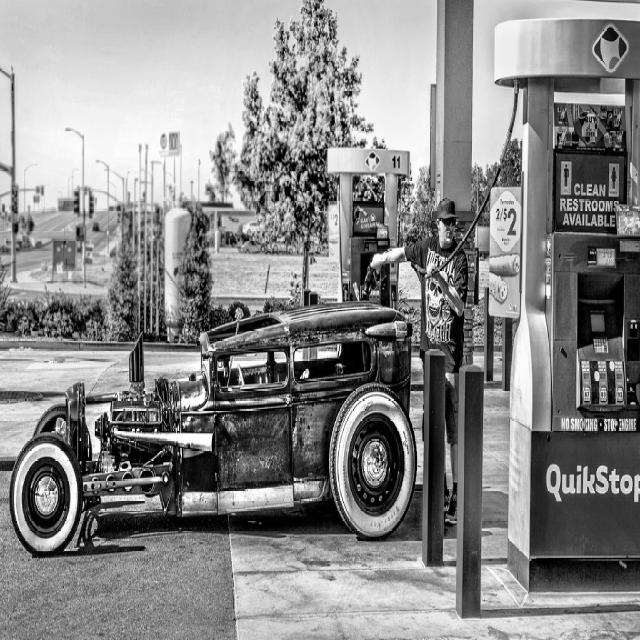car: (7, 291, 417, 536)
